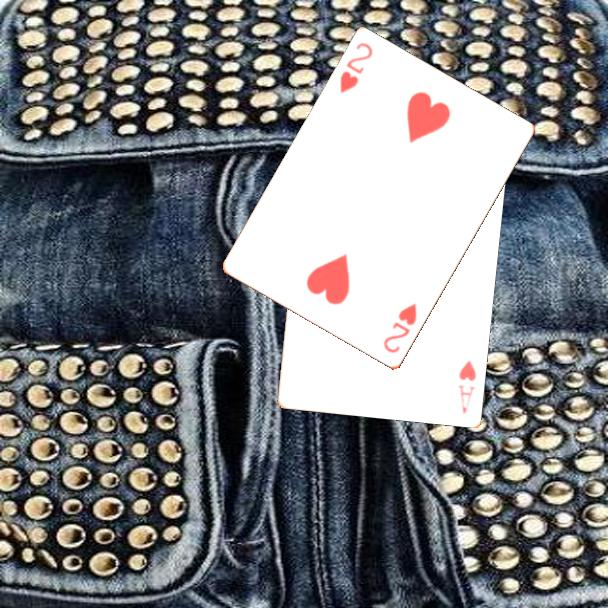h01: (454, 356, 479, 416)
h02: (380, 300, 420, 357), (336, 39, 376, 96)
